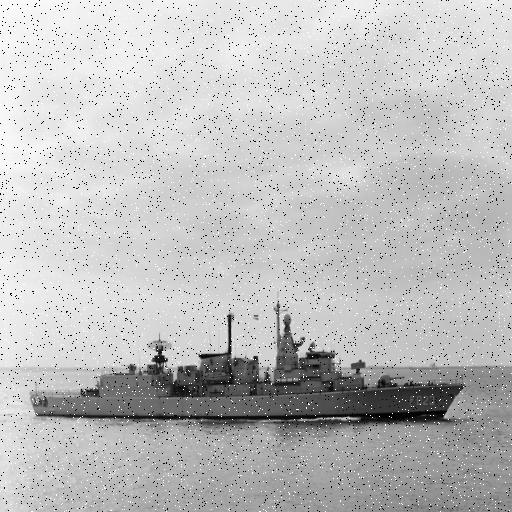Fragata: (28, 287, 473, 427)
